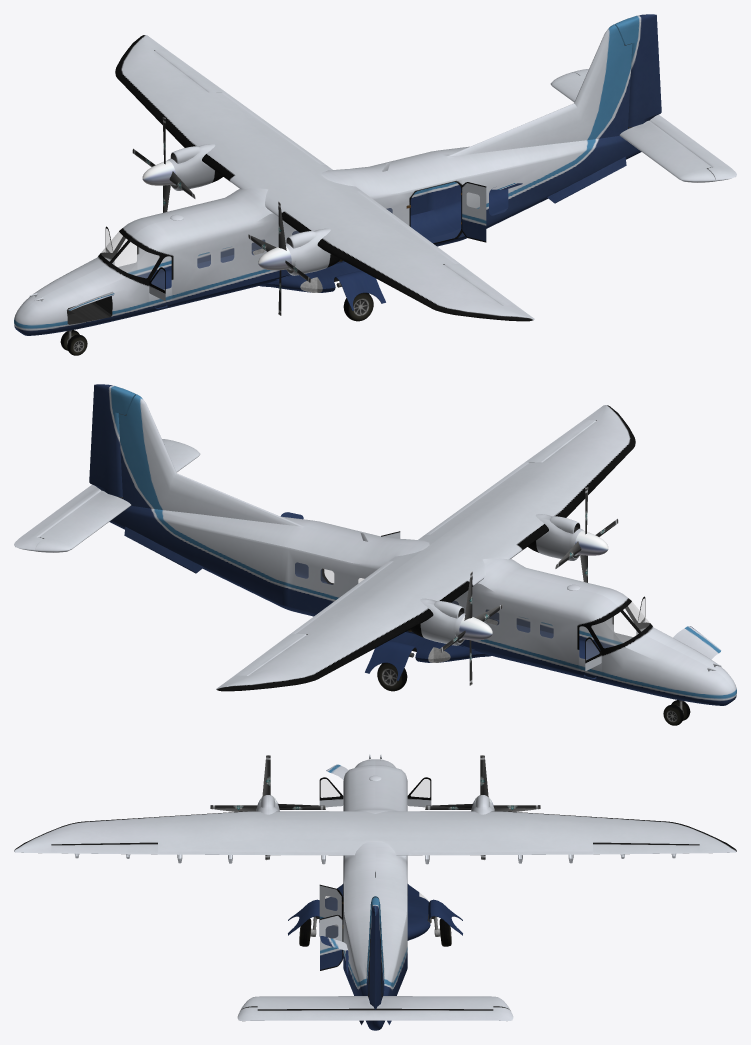
3 views of the same model, one above another, from view 1: azimuth 30°, elevation 25°; view 2: azimuth 150°, elevation 25°; view 3: azimuth 270°, elevation 25° (orthographic). The views are drawn at different scales.
Visible parts, largest first — view 1: fuselage, ailes, direction, ailes2, moteurs, vitres, profondeur, trous, portecargoB, porteG, ajouts, heliceG (+6 smaller); view 2: fuselage, ailes, direction, ailes2, moteurs, vitres, profondeur, porteD, ajouts, heliceD, portebagages, aileronG (+5 smaller); view 3: ailes, fuselage, ailes2, profondeur, direction, trous, aileronD, aileronG, portecargoB, heliceD, heliceG, voletD (+4 smaller).
Part boxes in pixels (<box>): fuselage: <box>14,24,649,335</box>; ailes: <box>115,35,534,321</box>; direction: <box>614,14,661,127</box>; ailes2: <box>550,72,715,182</box>; moteurs: <box>167,144,340,275</box>; vitres: <box>101,208,392,292</box>; profondeur: <box>573,69,736,181</box>; trous: <box>67,43,710,324</box>; portecargoB: <box>461,182,486,242</box>; porteG: <box>334,270,385,310</box>; ajouts: <box>547,156,626,203</box>; heliceG: <box>248,201,311,315</box>; fuselage: <box>101,394,736,705</box>; ailes: <box>216,405,635,691</box>; direction: <box>89,384,136,497</box>; ailes2: <box>35,442,200,552</box>; moteurs: <box>410,514,583,645</box>; vitres: <box>295,562,649,662</box>; profondeur: <box>14,439,177,551</box>; porteD: <box>365,640,416,680</box>; ajouts: <box>124,526,203,573</box>; heliceD: <box>439,571,502,685</box>; portebagages: <box>673,626,721,659</box>; aileronG: <box>525,420,595,462</box>; ailes: <box>14,811,736,855</box>; fuselage: <box>325,759,430,1030</box>; ailes2: <box>241,996,509,1009</box>; profondeur: <box>237,1007,513,1021</box>; direction: <box>369,897,381,1009</box>; trous: <box>51,842,699,1010</box>; aileronD: <box>593,844,699,854</box>; aileronG: <box>51,844,157,854</box>; portecargoB: <box>320,915,343,970</box>; heliceD: <box>425,755,540,860</box>; heliceG: <box>210,755,325,860</box>; voletD: <box>409,851,592,855</box>.
Bounding box in the file's own units: 16.37 × 16.97 × 4.78.
Materials: 2 (1 with a texture image).
